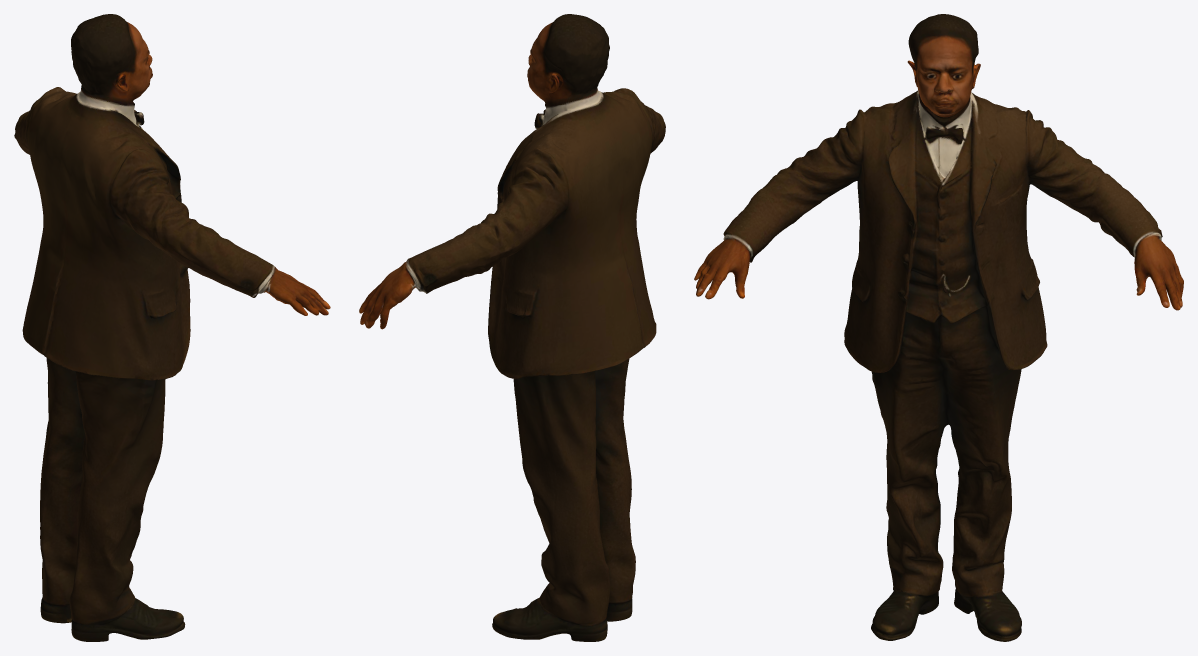
Rendered from person.fbx.
3 views of the same model, side by side, from view 1: azimuth 30°, elevation 25°; view 2: azimuth 150°, elevation 25°; view 3: azimuth 270°, elevation 25° (orthographic).
Parts seen in each view (by area): view 1: tripo_node_21b708c3; view 2: tripo_node_21b708c3; view 3: tripo_node_21b708c3.
Part boxes in pixels (left/top/right/bottom): tripo_node_21b708c3: left=14, top=14, right=330, bottom=641; tripo_node_21b708c3: left=359, top=14, right=665, bottom=641; tripo_node_21b708c3: left=694, top=14, right=1183, bottom=641.
Size of the model in its own units: 0.3008 by 1 by 0.7368.
Materials: 1 (1 with a texture image).
